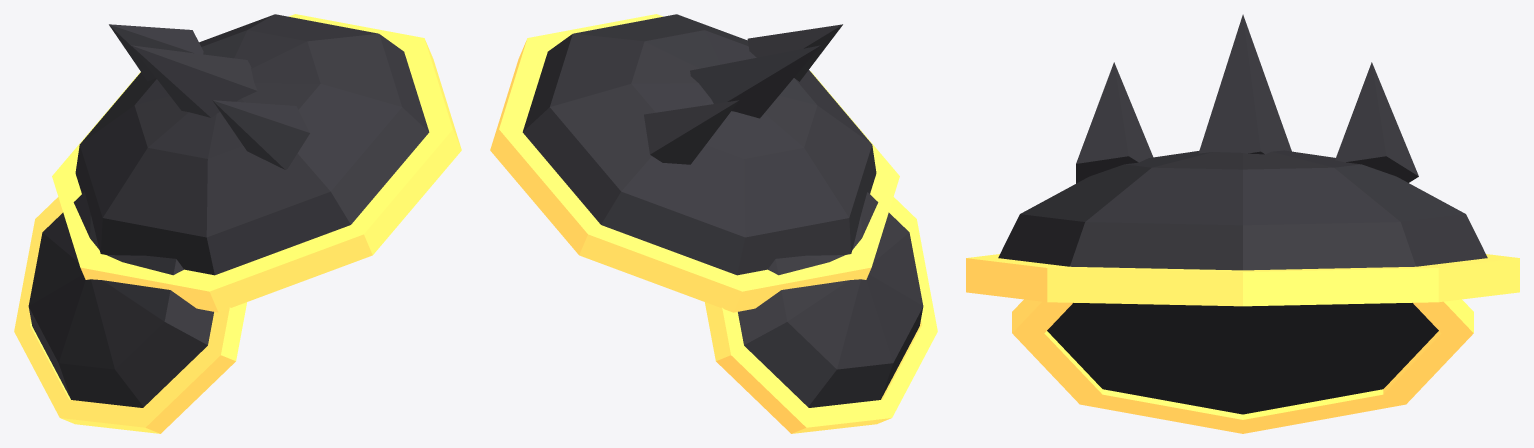
Rendered from Armor_Fire_Pauldron_R.fbx.
3 views of the same model, side by side, from view 1: azimuth 30°, elevation 25°; view 2: azimuth 150°, elevation 25°; view 3: azimuth 270°, elevation 25° (orthographic). The views are drawn at different scales.
Parts seen in each view (by area): view 1: Armor_Fire_Pauldron_R; view 2: Armor_Fire_Pauldron_R; view 3: Armor_Fire_Pauldron_R.
Boxes of the visible parts, x1,y1,x2,y2 form: Armor_Fire_Pauldron_R: (14,14,461,433); Armor_Fire_Pauldron_R: (490,14,937,433); Armor_Fire_Pauldron_R: (966,14,1519,433).
Bounding box in the file's own units: 0.2504 × 0.2332 × 0.2579.
